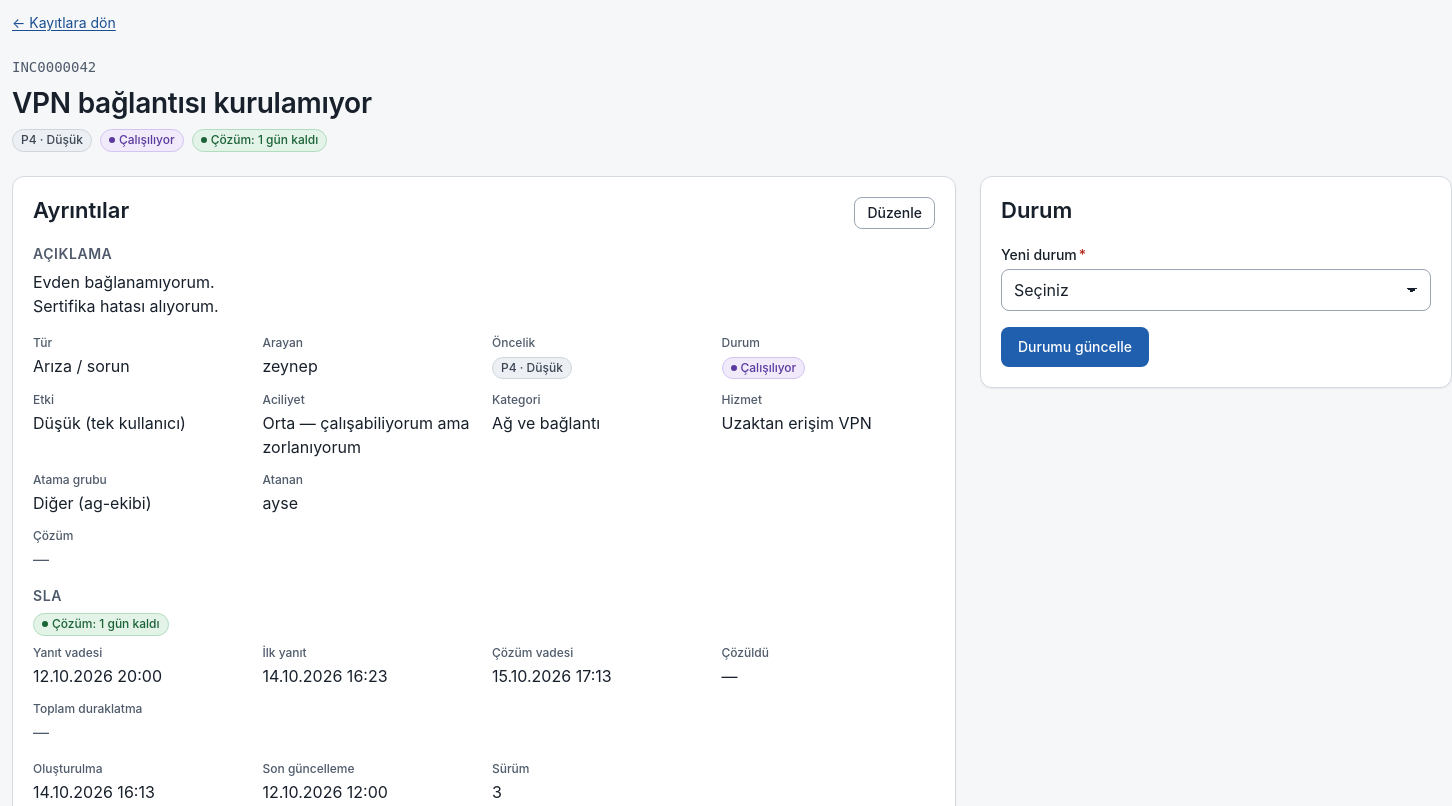
Test case: IncidentDetailPage — durum geçişi › beklemeye alma neden ister ve SLA etkisini gösterir
The image size is (1452, 806).
Select "Beklemede" in the dropdown labelled "Yeni durum*" at (1216, 290), box [1001, 269, 1431, 311]
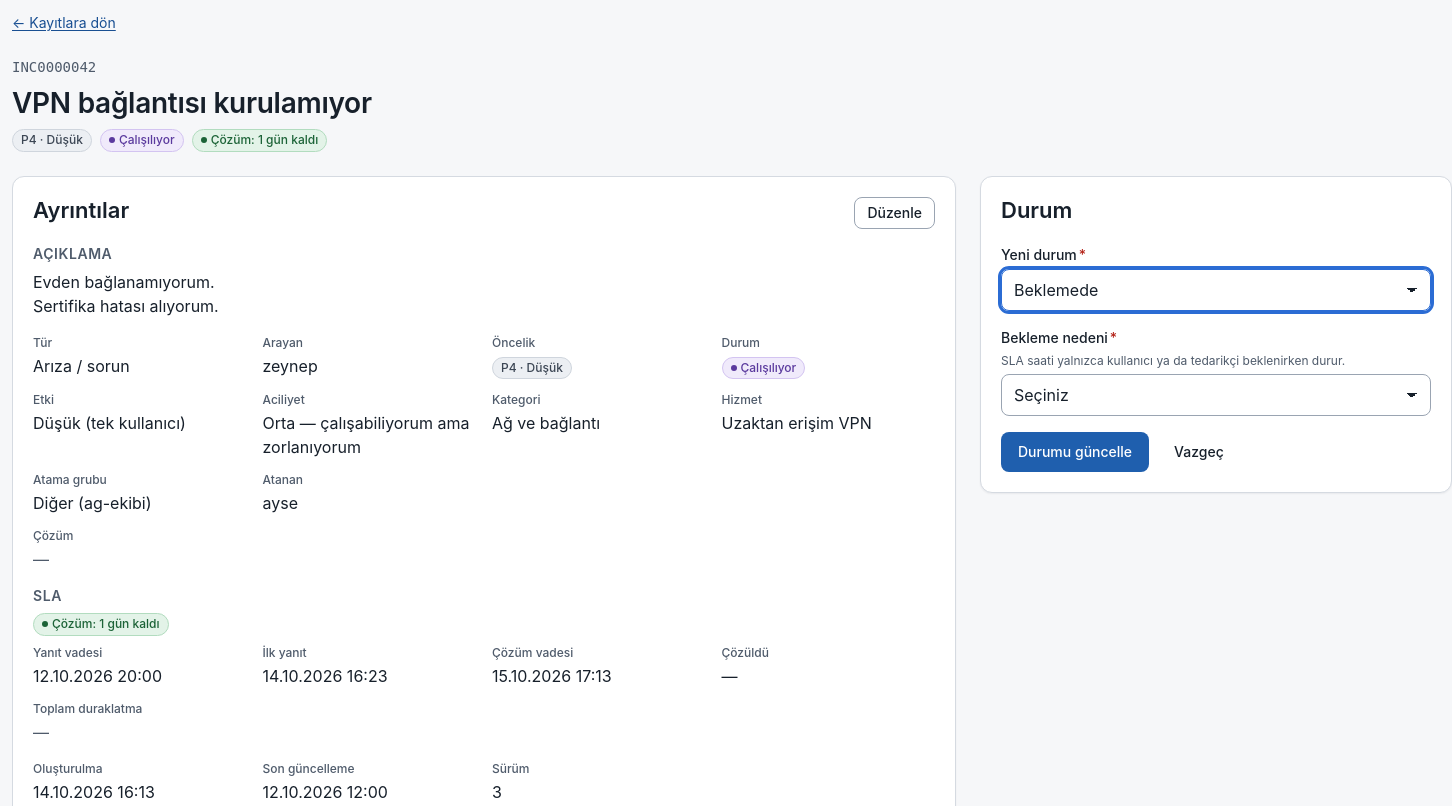
Click the button "Durumu güncelle" at (1075, 452), box [1001, 432, 1149, 472]
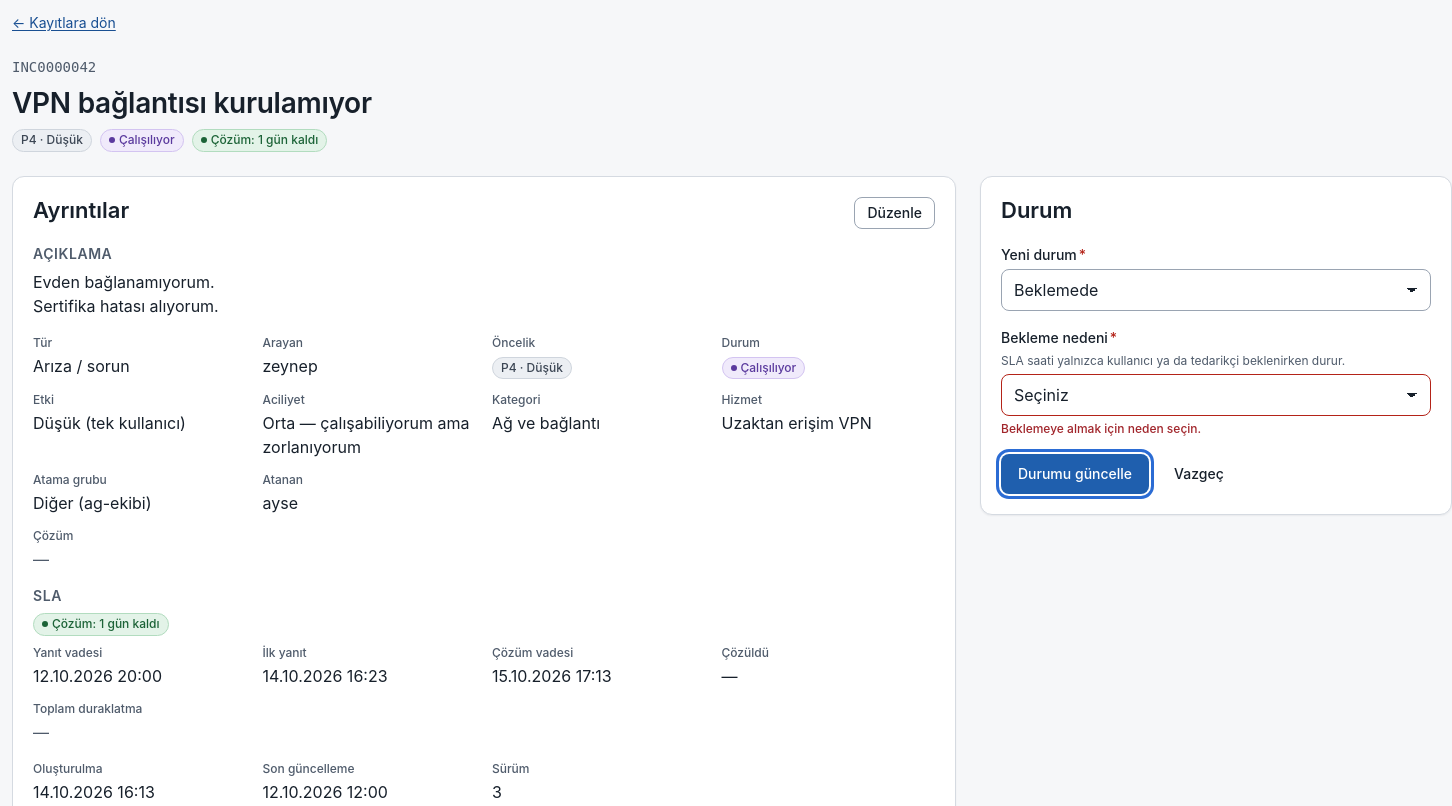
Check: the text "Beklemeye almak için neden seçin." is shown, box [1001, 421, 1201, 436]
Select "İç bekleme (SLA işler)" in the dropdown labelled "Bekleme nedeni*" at (1216, 395), box [1001, 374, 1431, 416]
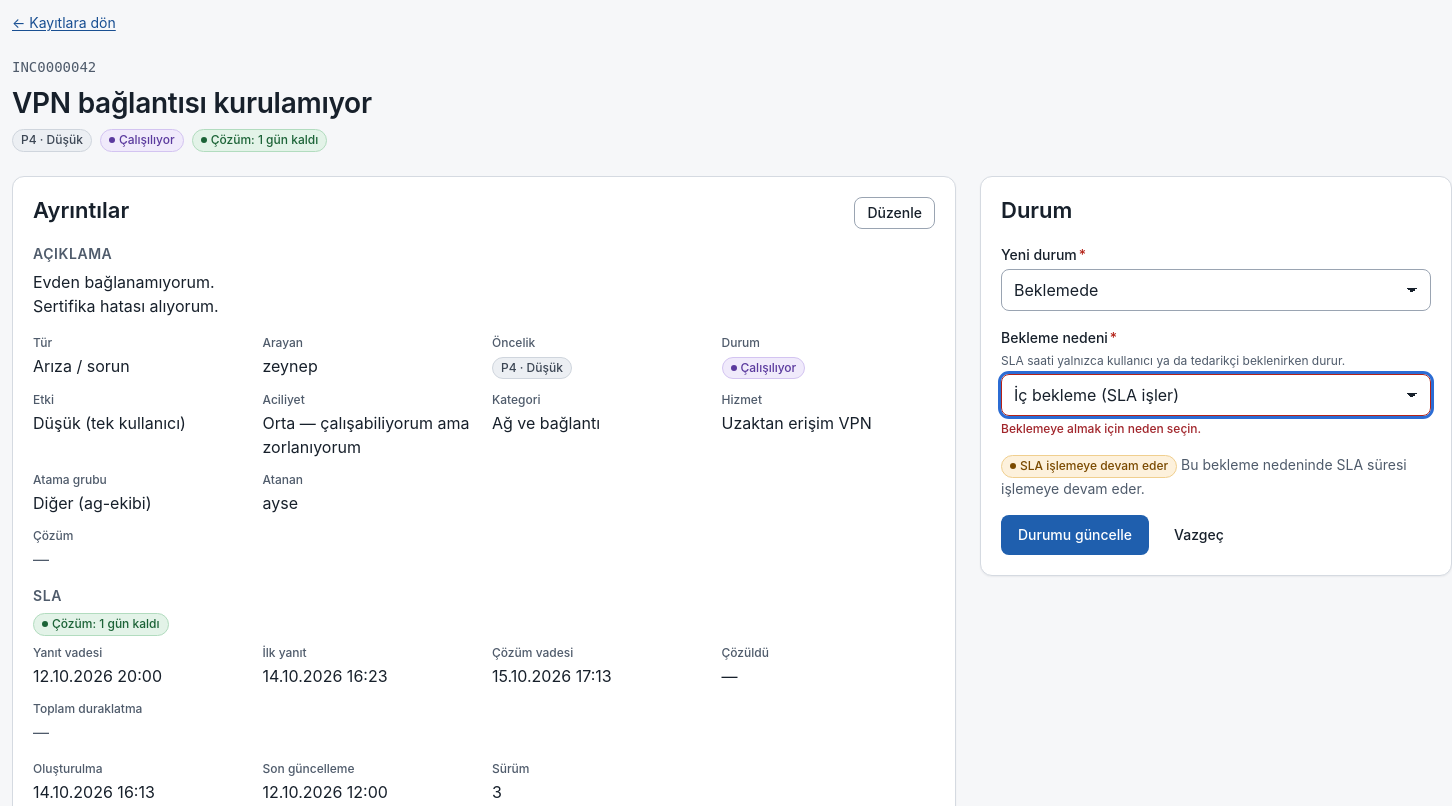
Check: the text "SLA işlemeye devam eder" is shown, box [1001, 455, 1177, 478]
Select "Tedarikçi bekleniyor (SLA durur)" in the dropdown labelled "Bekleme nedeni*" at (1216, 395), box [1001, 374, 1431, 416]
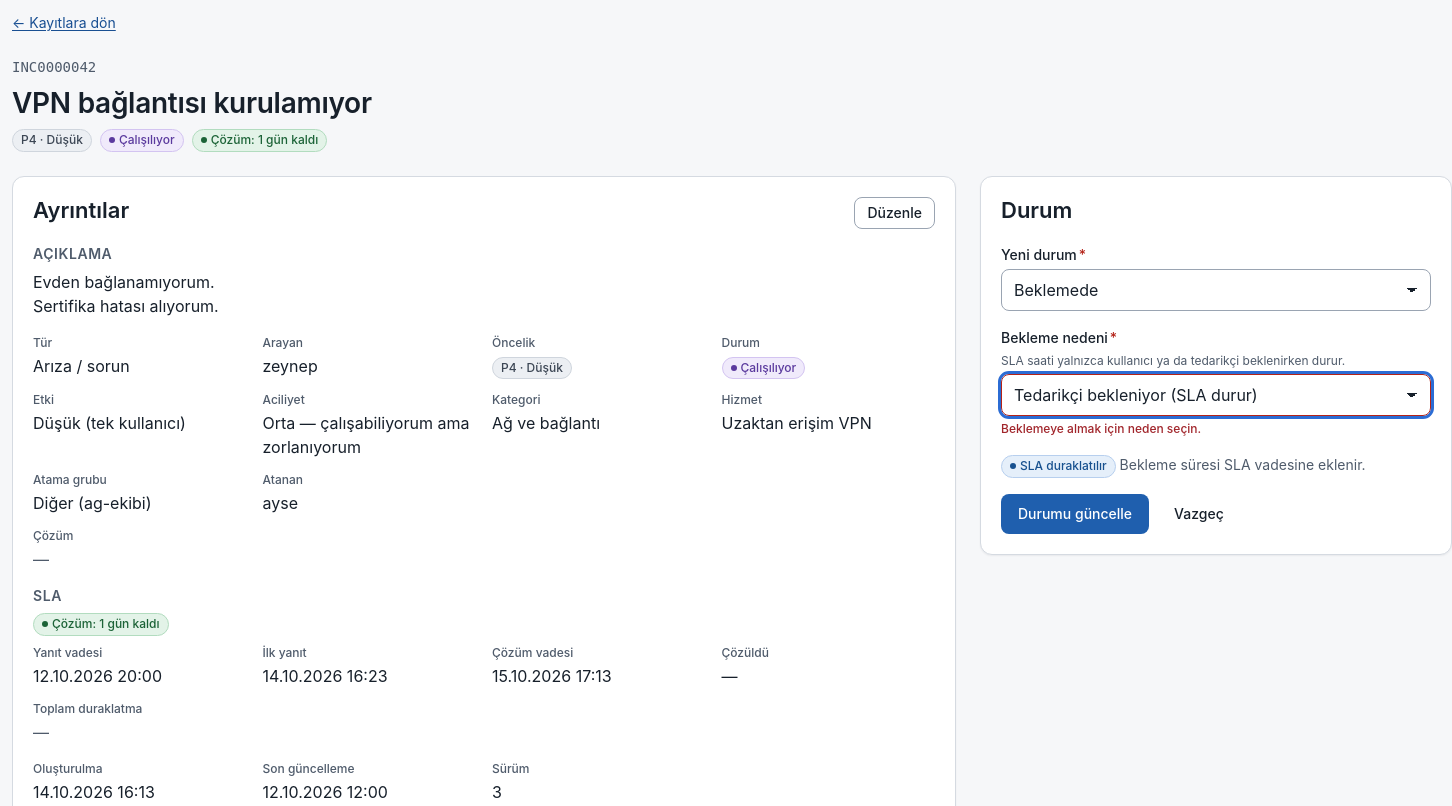
Check: the text "SLA duraklatılır" is shown, box [1001, 455, 1116, 478]
Click the button "Durumu güncelle" at (1075, 514), box [1001, 494, 1149, 534]
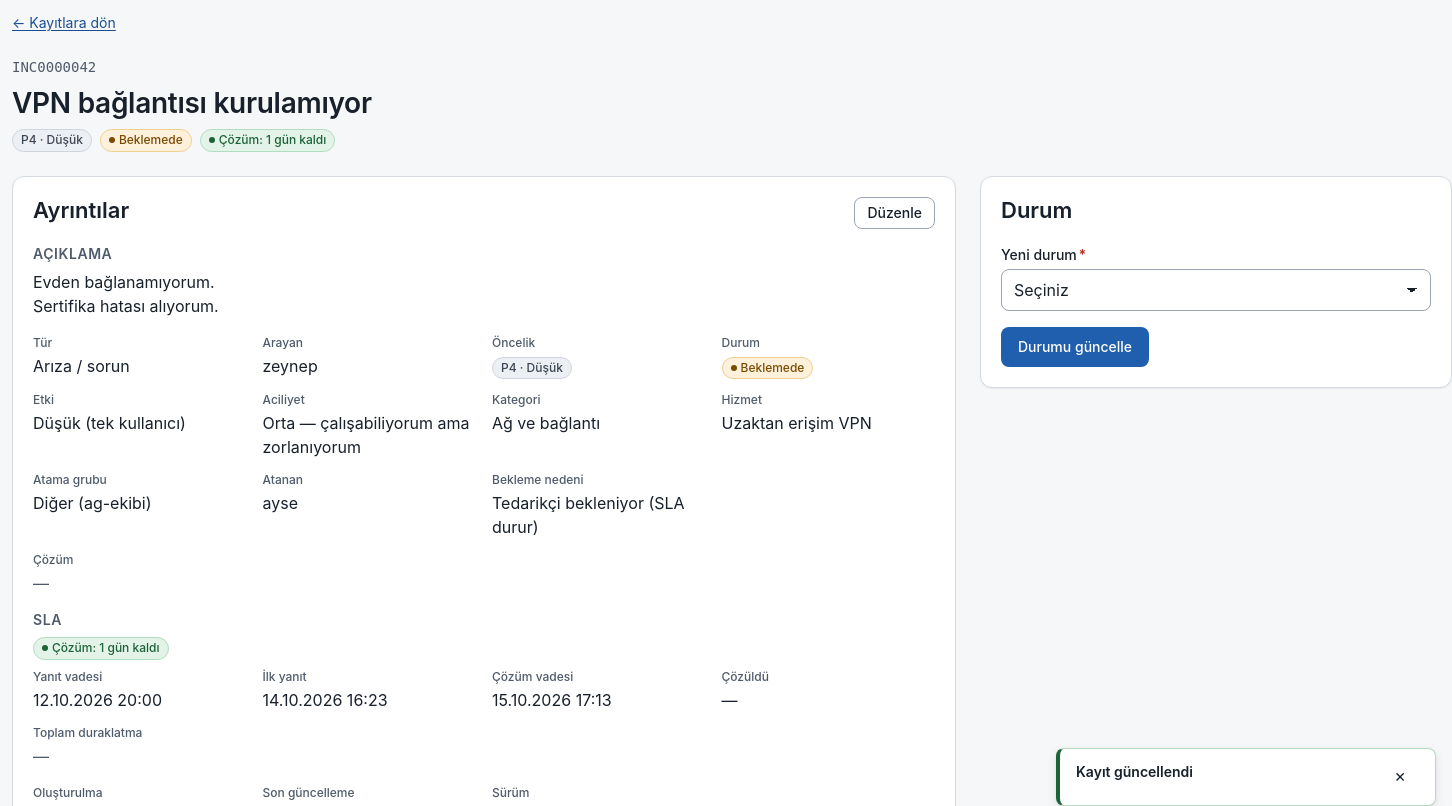
Check: the text "Kayıt güncellendi" is shown, box [1076, 763, 1193, 780]
